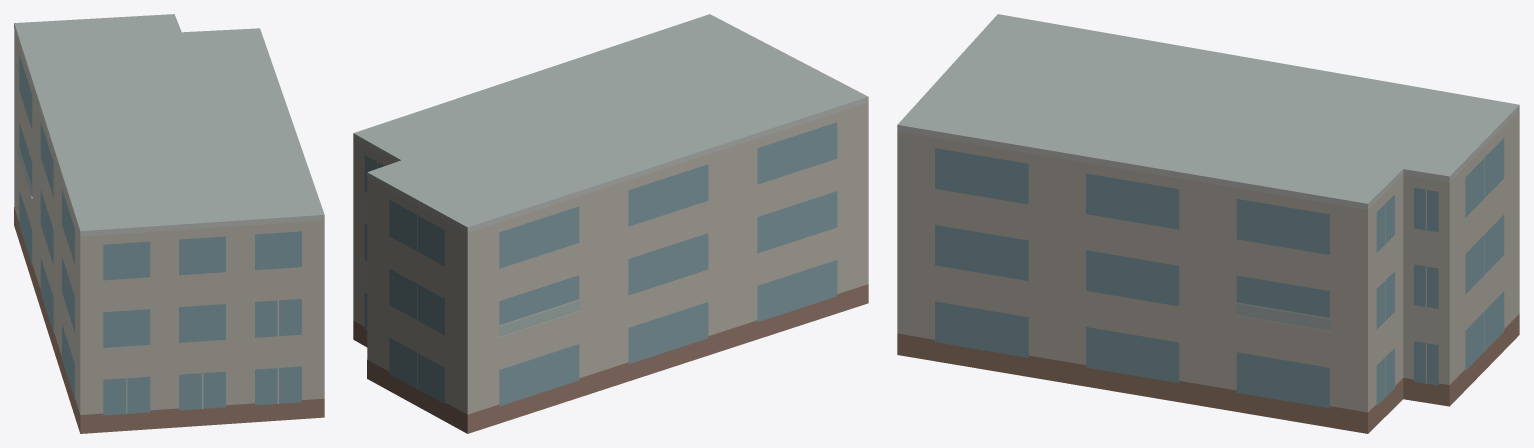
Rendered from survey-upis-32594968.glb.
The picture shows the model from 3 angles, left to right: view 1: azimuth 30°, elevation 25°; view 2: azimuth 150°, elevation 25°; view 3: azimuth 270°, elevation 25°; orthographic projection. The views are drawn at different scales.
Visible parts, largest first — view 1: survey-upis-32594968.tmp; view 2: survey-upis-32594968.tmp; view 3: survey-upis-32594968.tmp.
Boxes of the visible parts, left/top/right/bottom form: survey-upis-32594968.tmp: left=14, top=14, right=324, bottom=433; survey-upis-32594968.tmp: left=353, top=14, right=868, bottom=433; survey-upis-32594968.tmp: left=897, top=14, right=1519, bottom=433.
Size of the model in its own units: 16.11 by 9.1 by 22.32.
